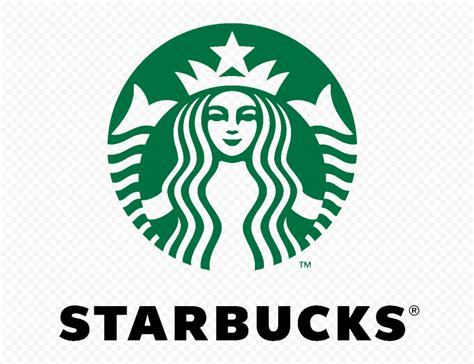starbucks Originale: (94, 17, 376, 282)
